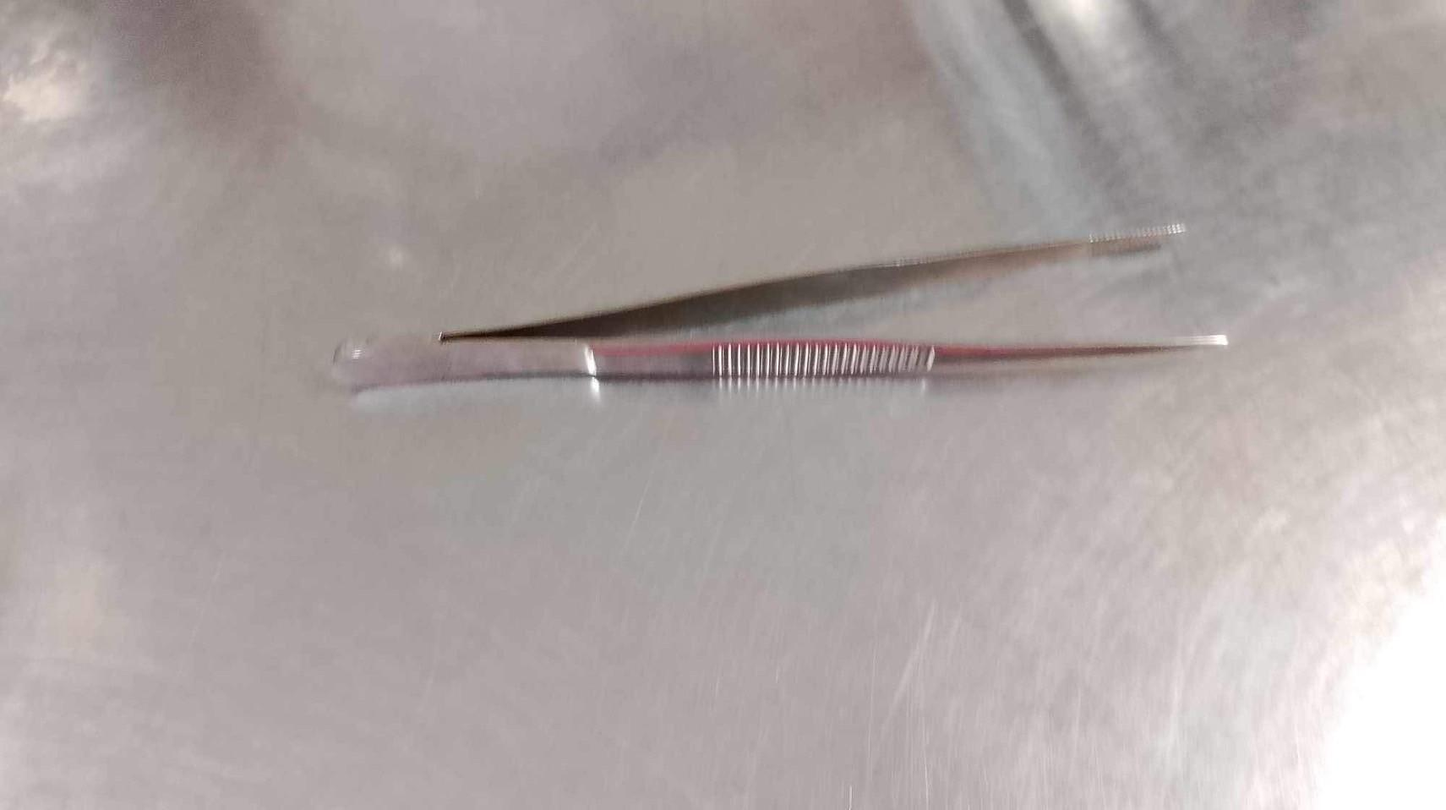Pathological: (5, 3, 1438, 804)
Sharps: (436, 220, 1188, 342), (330, 327, 1230, 391)
